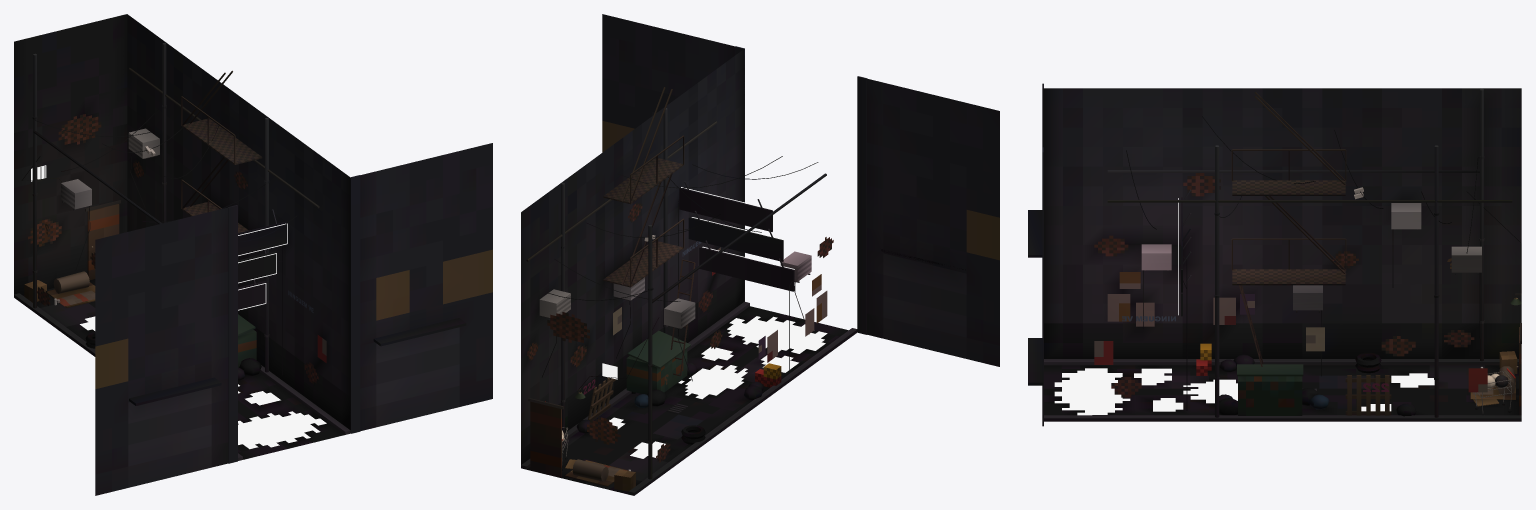
File: beco.glb
3 renders of one model, left to right at view 1: azimuth 30°, elevation 25°; view 2: azimuth 150°, elevation 25°; view 3: azimuth 270°, elevation 25°, orthographic. The views are drawn at different scales.
Parts seen in each view (by area): view 1: sala_solido, sala_vidro; view 2: sala_solido, sala_vidro; view 3: sala_solido, sala_vidro.
Boxes of the visible parts, box(x1,y1,x2,y2) form: sala_solido: box(14, 14, 492, 495); sala_vidro: box(80, 316, 326, 449); sala_solido: box(521, 14, 999, 495); sala_vidro: box(609, 316, 827, 458); sala_solido: box(1028, 83, 1521, 426); sala_vidro: box(1054, 368, 1434, 415).
Bounding box in the file's own units: 13 × 9.26 × 13.05.
